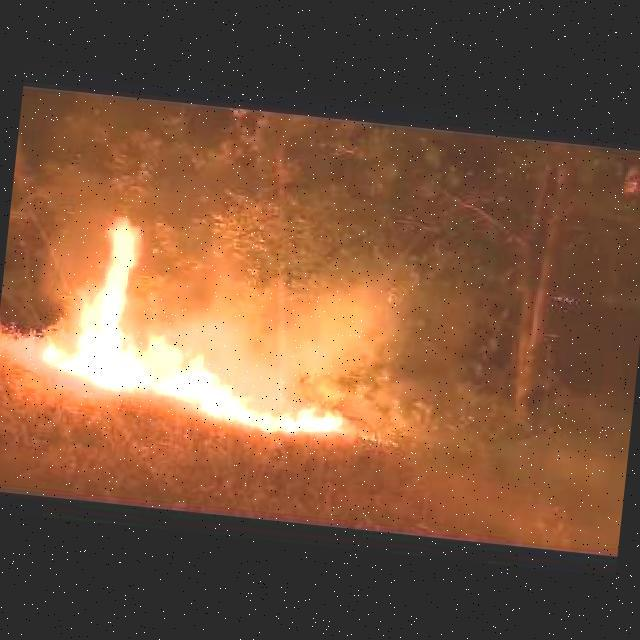Fire: (30, 203, 365, 449)
Smoke: (191, 250, 430, 411)
